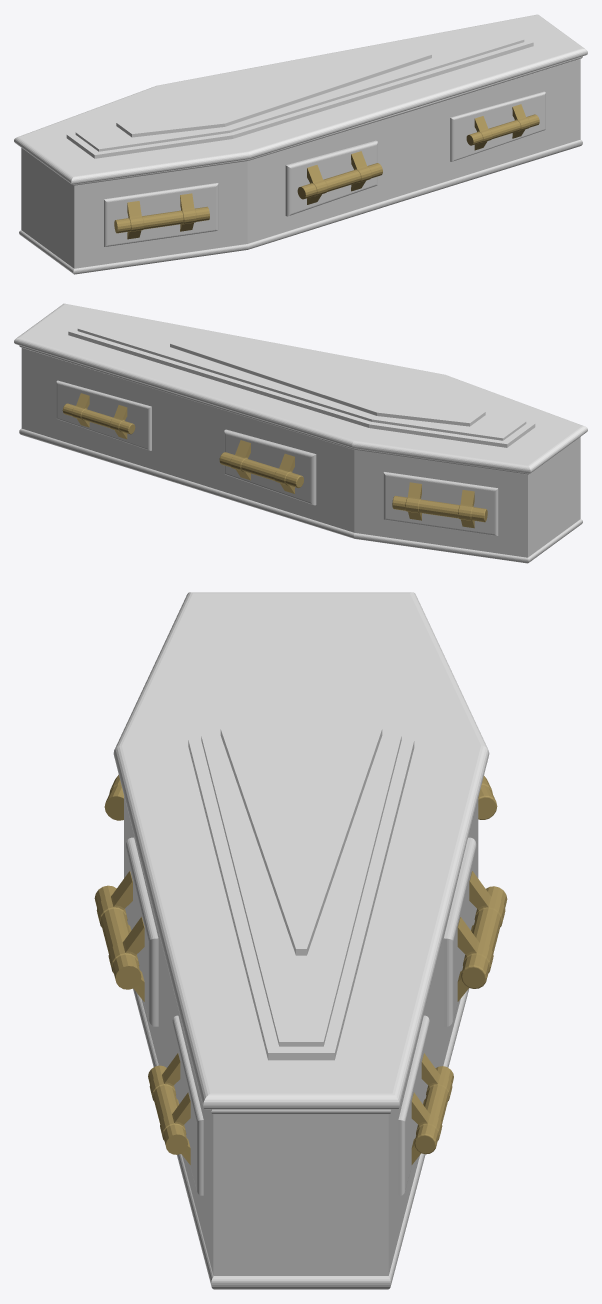
Rendered from Coffin.fbx.
3 views of the same model, one above another, from view 1: azimuth 30°, elevation 25°; view 2: azimuth 150°, elevation 25°; view 3: azimuth 270°, elevation 25° (orthographic). The views are drawn at different scales.
Visible parts, largest first — view 1: CoffinBase, Cover; view 2: CoffinBase, Cover; view 3: Cover, CoffinBase.
Part boxes in pixels (box(x1,y1,x2,y2)): CoffinBase: box(19, 56, 582, 274); Cover: box(14, 14, 587, 184); CoffinBase: box(19, 345, 582, 563); Cover: box(14, 303, 587, 473); Cover: box(113, 592, 489, 1109); CoffinBase: box(94, 775, 507, 1289).
Bounding box in the file's own units: 3837 × 764 × 1316.
